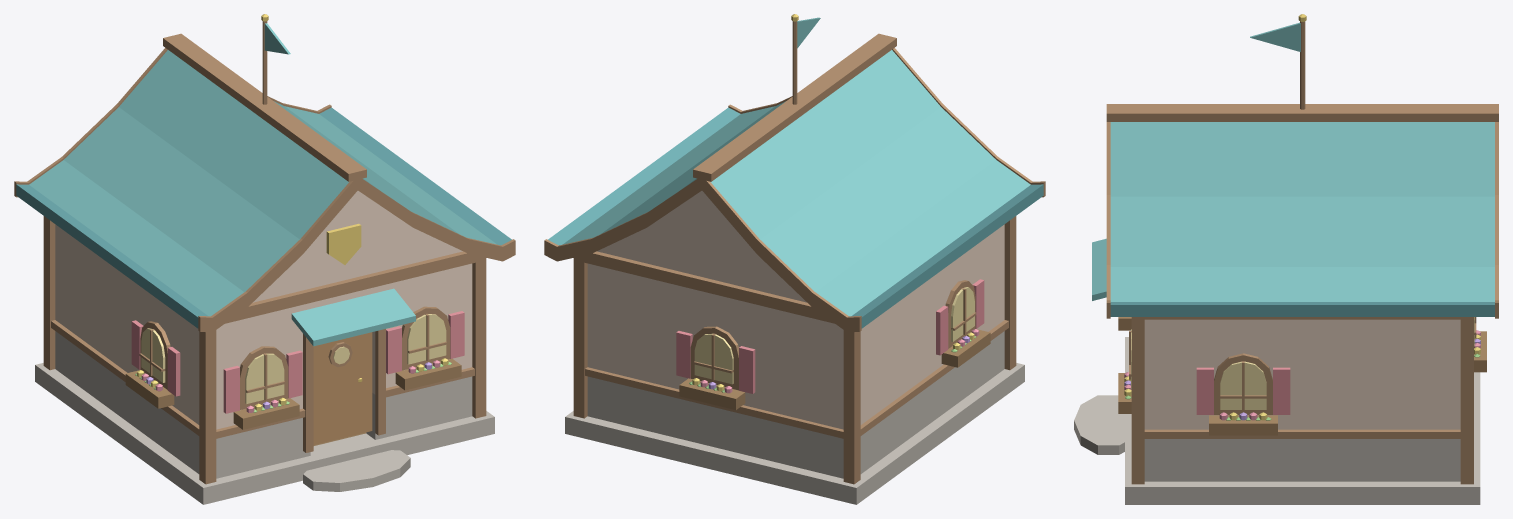
The model's file is hall_peach.glb.
The picture shows the model from 3 angles, left to right: view 1: azimuth 30°, elevation 25°; view 2: azimuth 150°, elevation 25°; view 3: azimuth 270°, elevation 25°; orthographic projection. The views are drawn at different scales.
Parts seen in each view (by area): view 1: Player; view 2: Player; view 3: Player.
Part boxes in pixels (bbox=[...]): Player: bbox=[14, 14, 515, 504]; Player: bbox=[544, 14, 1045, 504]; Player: bbox=[1074, 14, 1498, 504].
Size of the model in its own units: 5.84 by 6.97 by 6.45.
